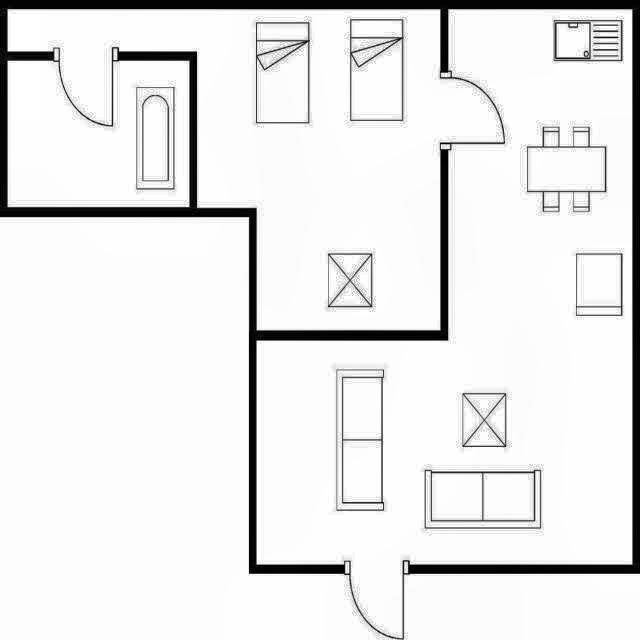room: (256, 9, 632, 565), (7, 9, 440, 329), (8, 62, 190, 207)
